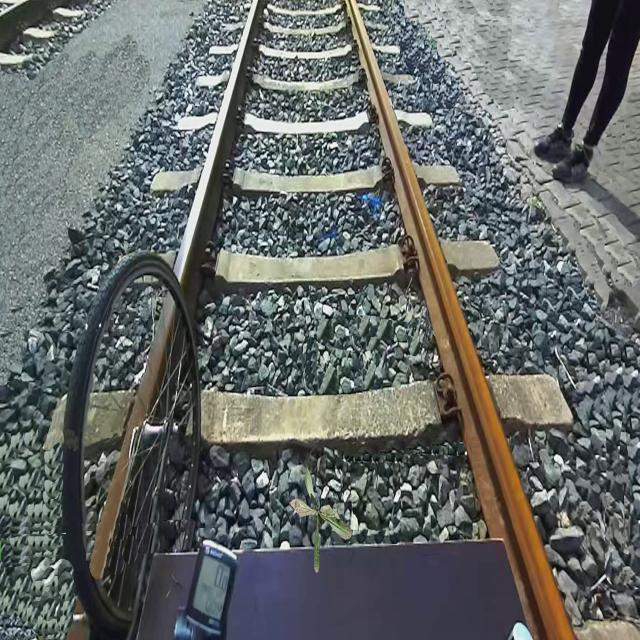Plant: (289, 461, 353, 573)
